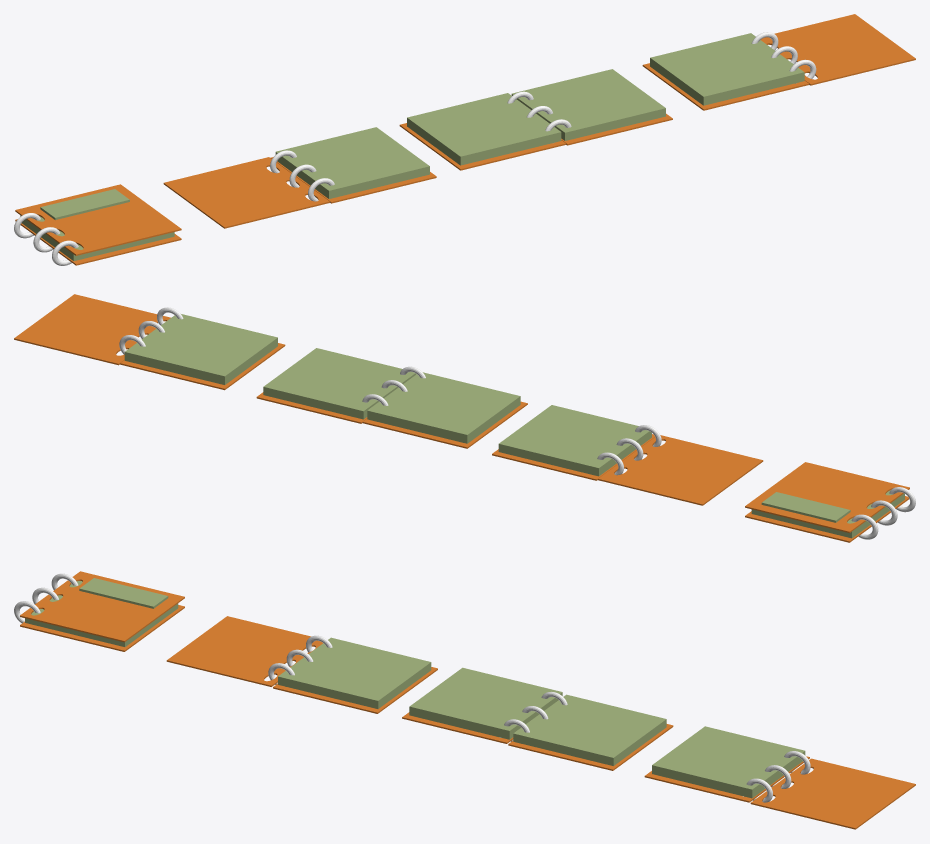
The model's file is beejournal.fbx.
3 renders of one model, top to bottom at view 1: azimuth 30°, elevation 25°; view 2: azimuth 150°, elevation 25°; view 3: azimuth 330°, elevation 25°, orthographic.
Visible parts, largest first — view 1: Cube.027, Cube.021, Cube.018, Cube.020, Cube.022, Cube.026, Cube.017, Cube.014, Cube.015, Cube.025, Cube.024, Cube.016 (+2 smaller); view 2: Cube.027, Cube.021, Cube.020, Cube.018, Cube.022, Cube.026, Cube.017, Cube.014, Cube.015, Cube.024, Cube.025, Cube.016 (+2 smaller); view 3: Cube.022, Cube.020, Cube.027, Cube.026, Cube.021, Cube.018, Cube.017, Cube.014, Cube.015, Cube.023, Cube.016, Cube.019 (+2 smaller).
Boxes of the visible parts, x1,y1,x2,y2 form: Cube.027: (650,33,804,105); Cube.021: (407,93,561,165); Cube.018: (163,157,329,228); Cube.020: (275,127,429,198); Cube.022: (511,69,665,140); Cube.026: (761,14,915,85); Cube.017: (15,184,181,255); Cube.014: (40,189,129,219); Cube.015: (20,215,174,260); Cube.025: (642,63,808,110); Cube.024: (399,123,565,170); Cube.016: (15,219,181,265); Cube.027: (124,314,277,384); Cube.021: (367,372,520,443); Cube.020: (498,405,651,476); Cube.018: (598,435,763,505); Cube.022: (263,348,416,419); Cube.026: (14,294,170,365); Cube.017: (745,462,909,532); Cube.014: (761,492,850,522); Cube.015: (751,490,904,538); Cube.024: (362,401,527,448); Cube.025: (120,343,285,390); Cube.016: (745,496,909,542); Cube.022: (513,694,666,765); Cube.020: (278,637,431,708); Cube.027: (652,726,805,798); Cube.026: (750,758,915,829); Cube.021: (409,667,562,739); Cube.018: (166,616,322,686); Cube.017: (20,571,184,642); Cube.014: (79,578,168,608); Cube.015: (25,581,178,646); Cube.023: (508,724,673,770); Cube.016: (20,605,184,651); Cube.019: (273,667,437,713).
Bounding box in the file's own units: 7811 × 222 × 979.
